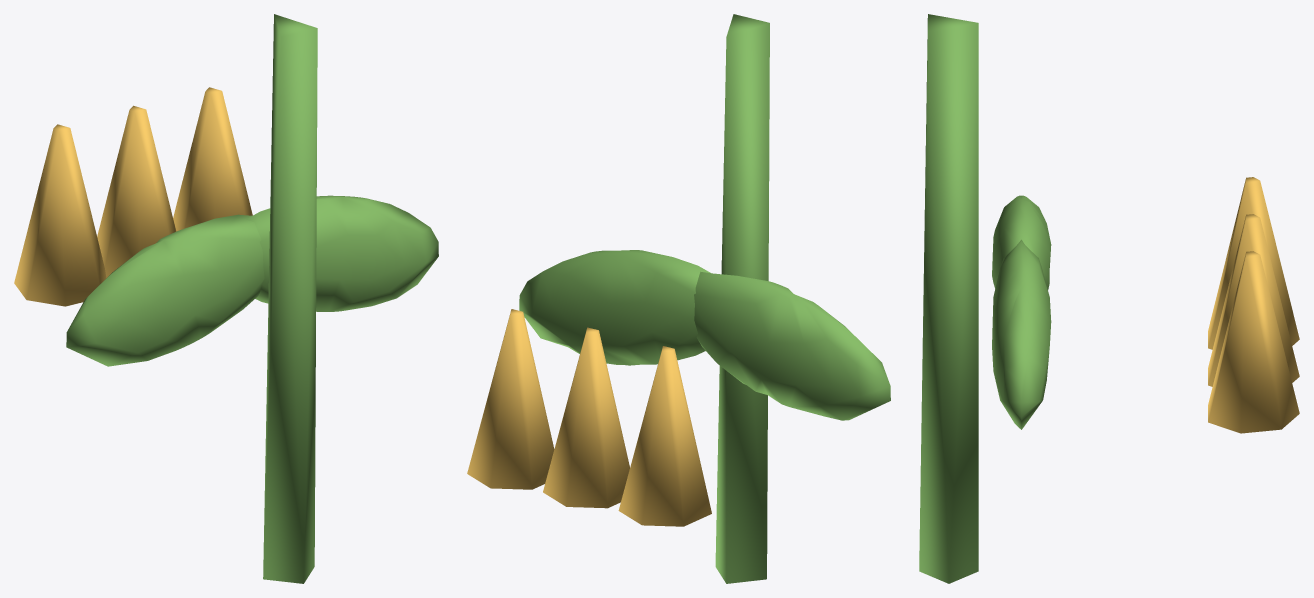
File: wheat_harvest_item.glb
The picture shows the model from 3 angles, left to right: view 1: azimuth 30°, elevation 25°; view 2: azimuth 150°, elevation 25°; view 3: azimuth 270°, elevation 25°; orthographic projection.
Visible parts, largest first — view 1: Stem, Leaf, Leaf.001, Grain, Grain.001, Grain.002; view 2: Stem, Leaf, Leaf.001, Grain, Grain.002, Grain.001; view 3: Stem, Grain.002, Leaf.001, Grain.001, Grain, Leaf.
Boxes of the visible parts, left/top/right/bottom form: Stem: left=263, top=14, right=317, bottom=583; Leaf: left=66, top=214, right=264, bottom=366; Leaf.001: left=246, top=195, right=438, bottom=311; Grain: left=14, top=124, right=106, bottom=306; Grain.001: left=97, top=105, right=176, bottom=277; Grain.002: left=173, top=87, right=252, bottom=231; Stem: left=715, top=14, right=769, bottom=583; Leaf: left=694, top=271, right=890, bottom=420; Leaf.001: left=519, top=250, right=710, bottom=365; Grain: left=618, top=346, right=711, bottom=526; Grain.002: left=467, top=309, right=554, bottom=489; Grain.001: left=543, top=327, right=629, bottom=508; Stem: left=919, top=14, right=978, bottom=583; Grain.002: left=1208, top=251, right=1299, bottom=433; Leaf.001: left=992, top=239, right=1051, bottom=429; Grain.001: left=1208, top=214, right=1299, bottom=386; Grain: left=1208, top=177, right=1299, bottom=349; Leaf: left=992, top=195, right=1051, bottom=289.
Bounding box in the file's own units: 0.4907 × 0.69 × 0.434.
